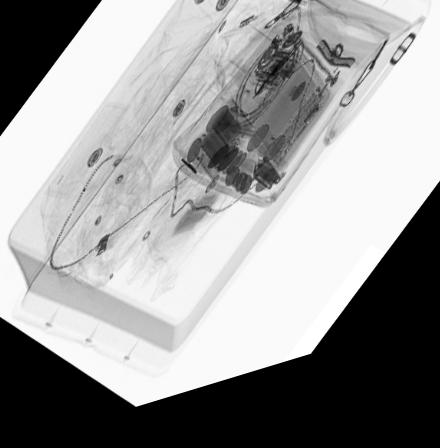Powerbank: (187, 109, 257, 195)
